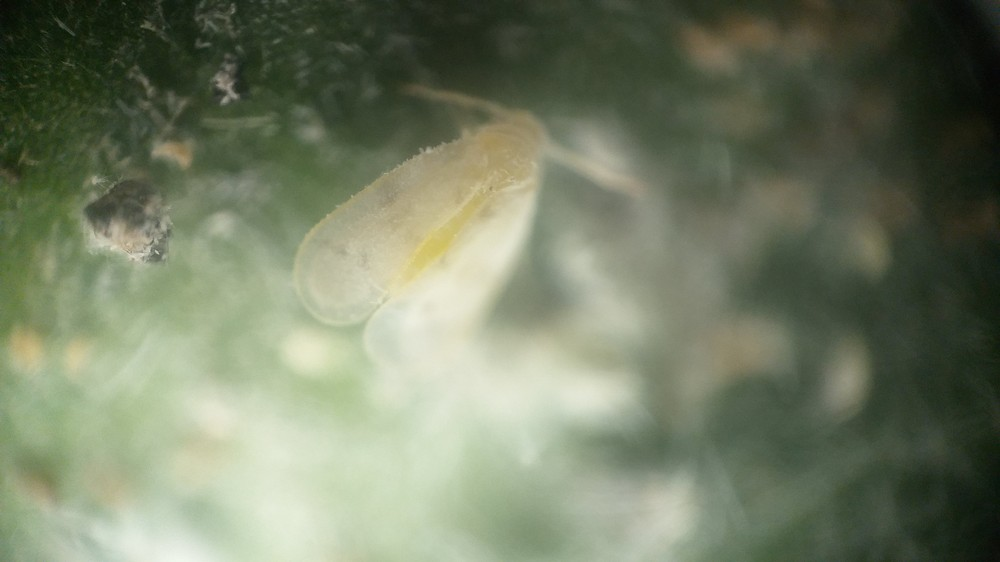Mosca Blanca: (273, 68, 679, 413)
